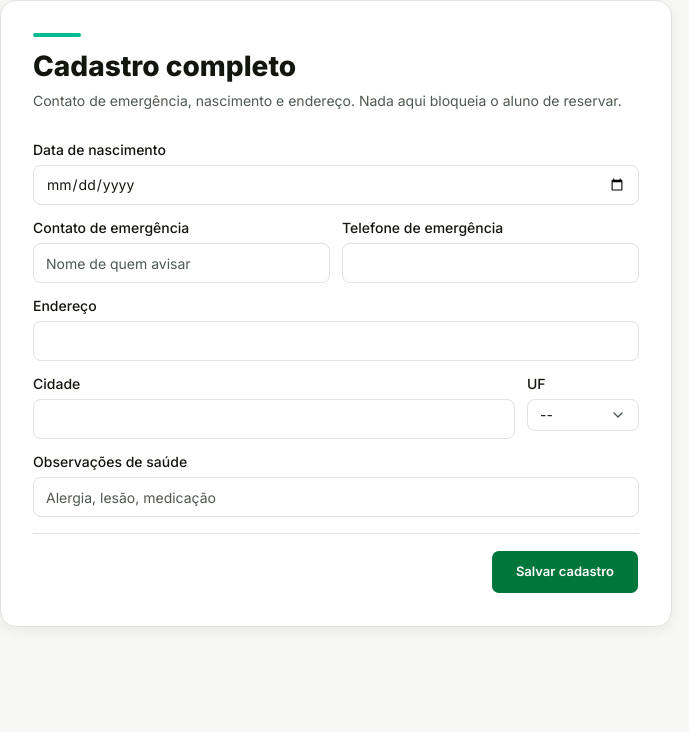
Test: CadastroCompletoDoAluno › salvar recarrega a barra a partir da RESPOSTA, não do que foi enviado
The image size is (689, 732).
Click the button "Salvar cadastro".
click(565, 572)  # box [491,550,639,594]
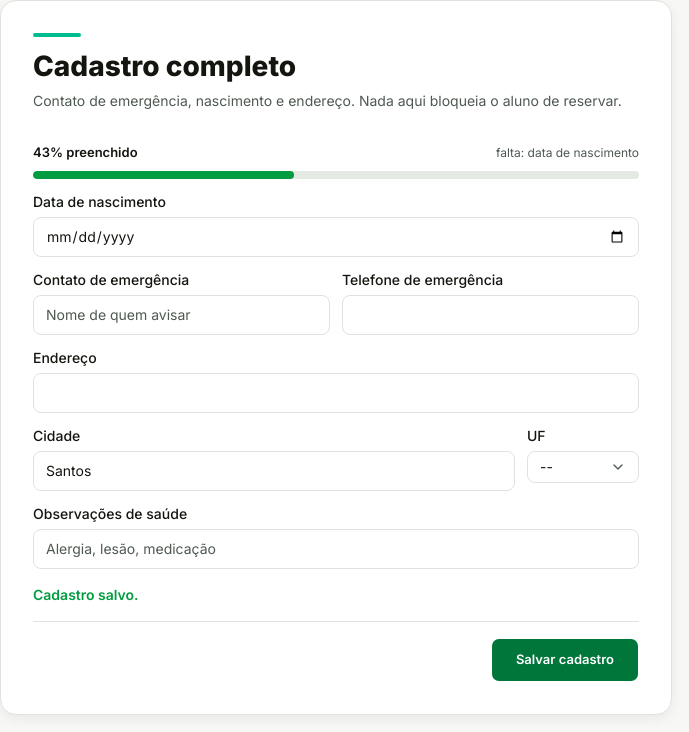
Expected: the text "43% preenchido" is shown, [33,143,138,162]
